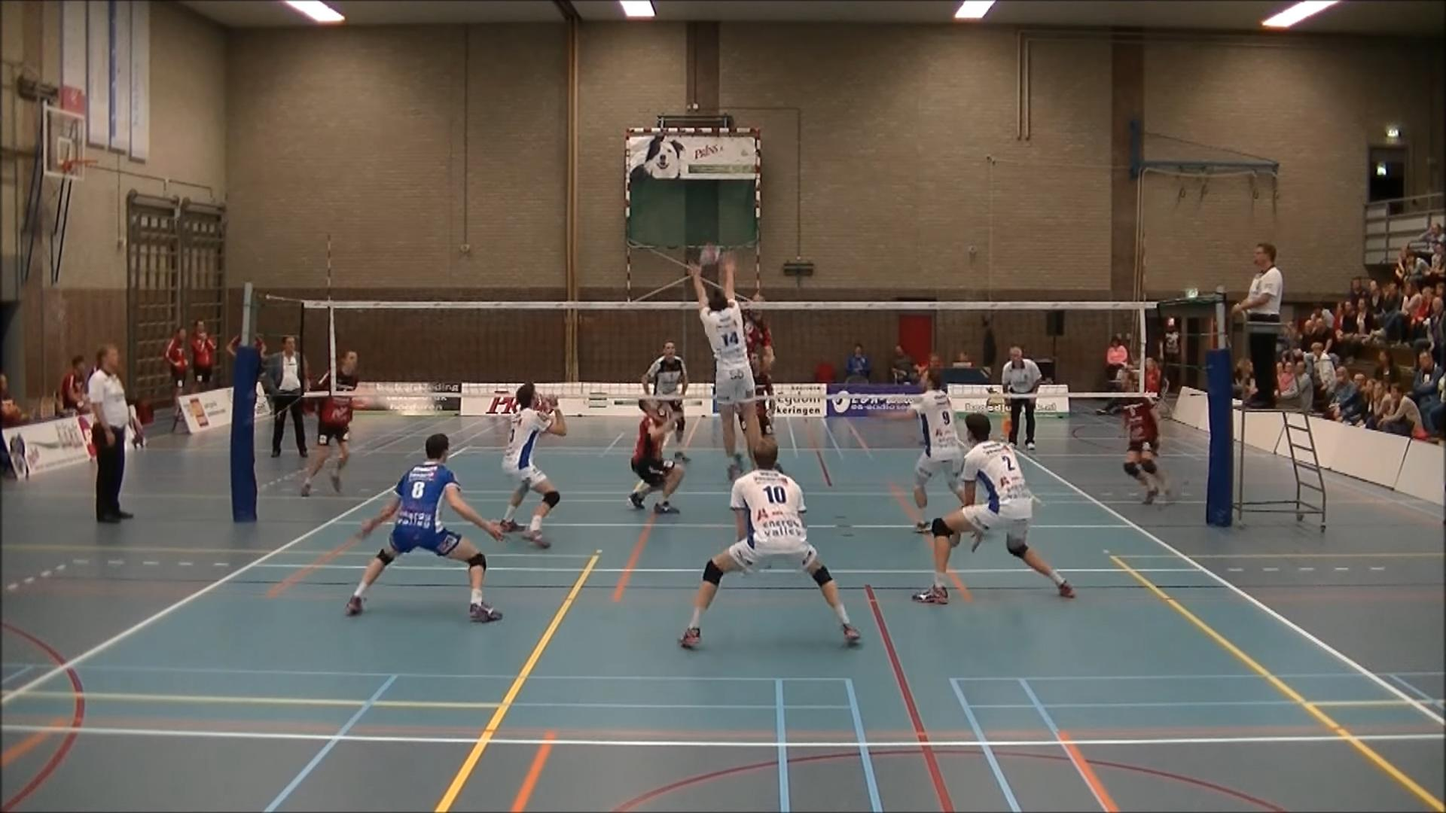attacco: (726, 279, 778, 449)
muro: (688, 256, 764, 478)
